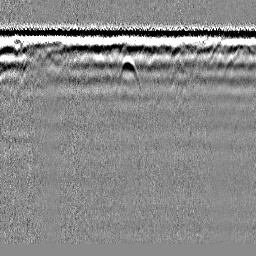cavity: (115, 55, 142, 94)
